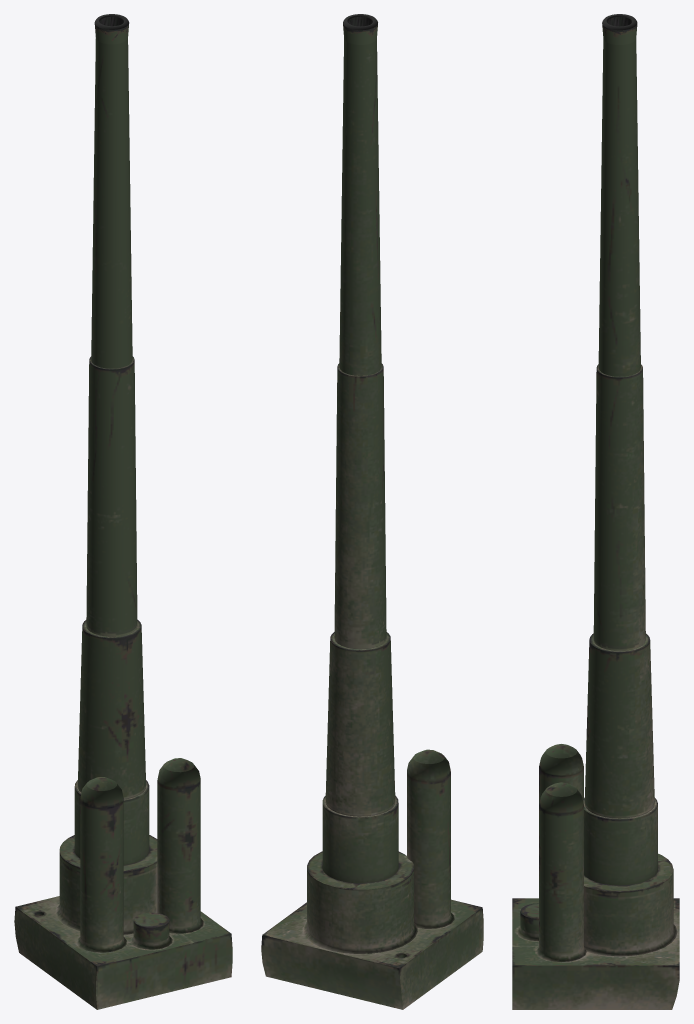
The model's file is Gun_02.glb.
3 renders of one model, left to right at view 1: azimuth 30°, elevation 25°; view 2: azimuth 150°, elevation 25°; view 3: azimuth 270°, elevation 25°, orthographic. The views are drawn at different scales.
Parts seen in each view (by area): view 1: set_0_group_0; view 2: set_0_group_0; view 3: set_0_group_0.
Part boxes in pixels (x1,y1,x2,y2): set_0_group_0: [14, 14, 232, 1009]; set_0_group_0: [261, 14, 483, 1009]; set_0_group_0: [512, 14, 679, 1009].
Bounding box in the file's own units: 0.7955 × 5.21 × 0.825.
1 material, 1 textured.
